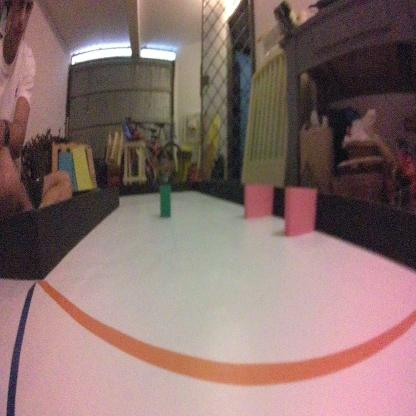green: (159, 180, 172, 214)
magenta: (282, 184, 316, 238), (243, 181, 273, 219)
